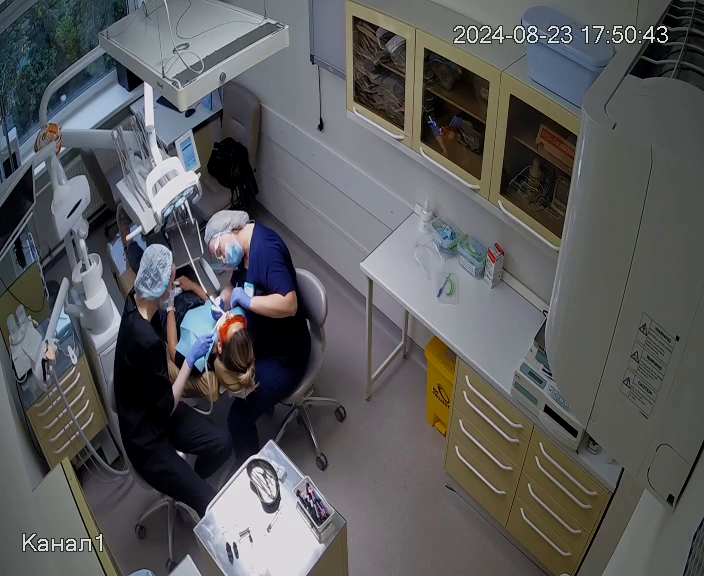Patient: (85, 197, 262, 404)
